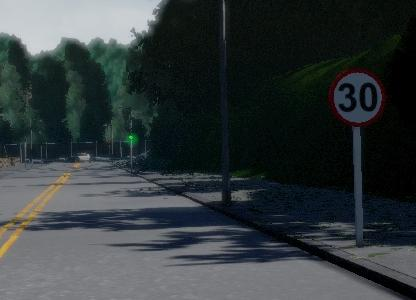Speed_30: (324, 65, 389, 129)
